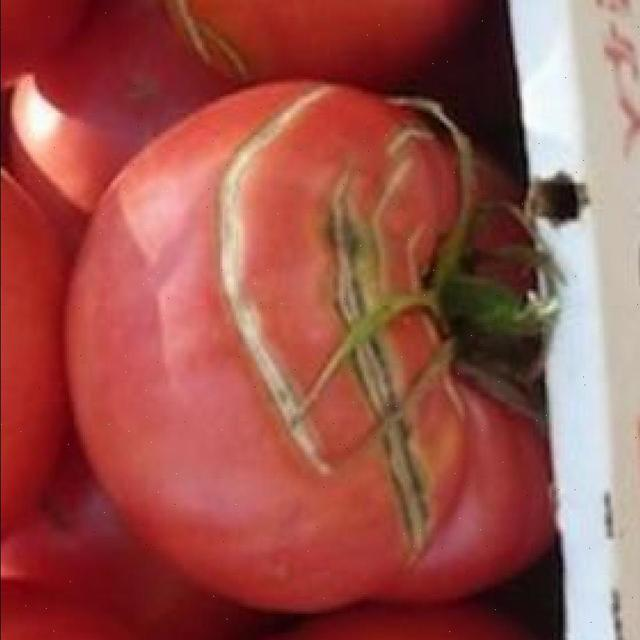Cracking Fruit: (79, 189, 249, 269)
